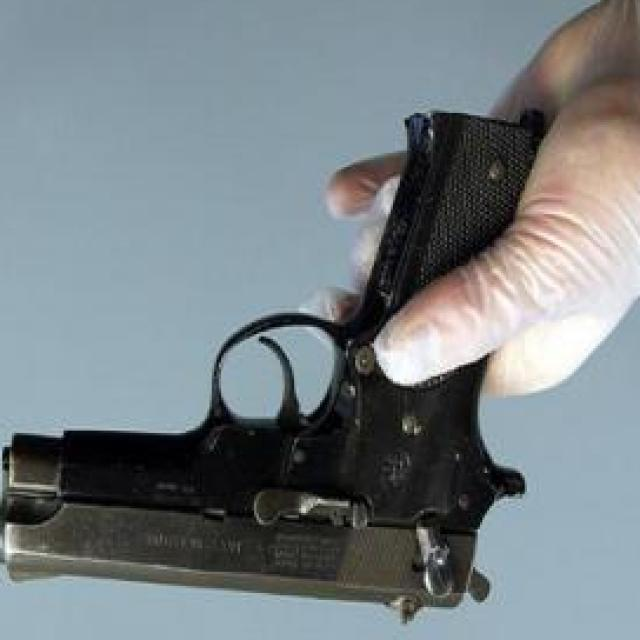pistol: (0, 113, 546, 631)
